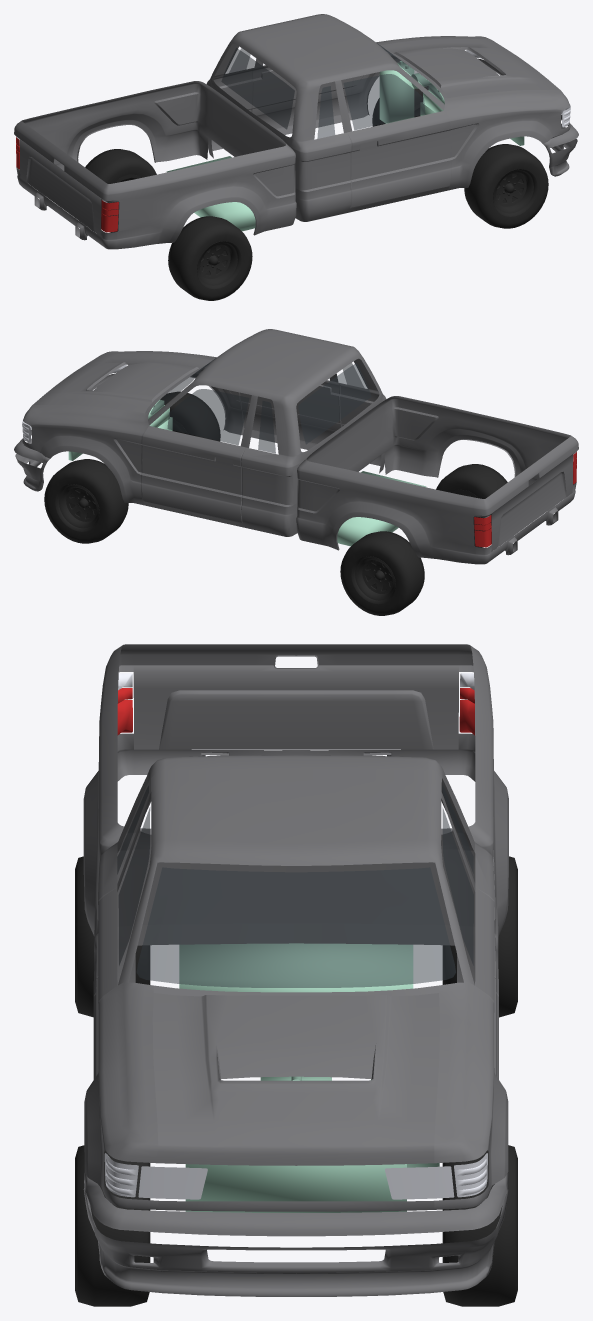
The model's file is pickup.glb.
The picture shows the model from 3 angles, top to bottom: view 1: azimuth 30°, elevation 25°; view 2: azimuth 150°, elevation 25°; view 3: azimuth 270°, elevation 25°; orthographic projection. The views are drawn at different scales.
Visible parts, largest first — view 1: krmlgtbdy85_Body.001, krmlgtbdy85_Hood.001, tyre_rr_tyre, tyre_fr_tyre, krmlgtbdy85_Trunkdoor.001, krmlgtbdy85_Glass_Passanger.001, krmlgtbdy85_Glass_Rear.001, tyre_rl_tyre, zone_battery, zone_fuel, krmlgtbdy85_Bumper_Front.001, krmlgtbdy85_Body_Glass.001 (+3 smaller); view 2: krmlgtbdy85_Body.001, krmlgtbdy85_Hood.001, tyre_rl_tyre, tyre_fl_tyre, krmlgtbdy85_Trunkdoor.001, krmlgtbdy85_Glass_Driver.001, krmlgtbdy85_Glass_Rear.001, tyre_fr_tyre, tyre_rr_tyre, zone_fuel, krmlgtbdy85_Bumper_Front.001, krmlgtbdy85_Body_Glass.001 (+2 smaller); view 3: krmlgtbdy85_Body.001, krmlgtbdy85_Hood.001, krmlgtbdy85_Windshield.001, krmlgtbdy85_Trunkdoor.001, krmlgtbdy85_Bumper_Front.001, zone_fuel, zone_cooling, headlight_krmlgtbdy85_Headlights_Glass.001, tyre_fl_tyre, tyre_fr_tyre, tyre_rr_tyre, tyre_rl_tyre (+4 smaller).
Boxes of the visible parts, <box> form: krmlgtbdy85_Body.001: <box>14,14,570,249</box>; krmlgtbdy85_Hood.001: <box>380,38,559,98</box>; tyre_rr_tyre: <box>168,216,252,300</box>; tyre_fr_tyre: <box>464,144,548,228</box>; krmlgtbdy85_Trunkdoor.001: <box>18,123,104,236</box>; krmlgtbdy85_Glass_Passanger.001: <box>343,74,425,130</box>; krmlgtbdy85_Glass_Rear.001: <box>221,48,294,129</box>; tyre_rl_tyre: <box>85,149,156,232</box>; zone_battery: <box>379,62,414,123</box>; zone_fuel: <box>166,156,255,231</box>; krmlgtbdy85_Bumper_Front.001: <box>493,70,578,176</box>; krmlgtbdy85_Body_Glass.001: <box>229,48,335,138</box>; krmlgtbdy85_Body.001: <box>22,329,578,564</box>; krmlgtbdy85_Hood.001: <box>33,353,212,413</box>; tyre_rl_tyre: <box>340,531,424,615</box>; tyre_fl_tyre: <box>44,459,128,543</box>; krmlgtbdy85_Trunkdoor.001: <box>488,438,574,551</box>; krmlgtbdy85_Glass_Driver.001: <box>167,389,249,445</box>; krmlgtbdy85_Glass_Rear.001: <box>298,363,371,444</box>; tyre_fr_tyre: <box>160,391,220,441</box>; tyre_rr_tyre: <box>436,464,507,547</box>; zone_fuel: <box>337,471,426,546</box>; krmlgtbdy85_Bumper_Front.001: <box>14,385,99,491</box>; krmlgtbdy85_Body_Glass.001: <box>258,363,363,453</box>; krmlgtbdy85_Body.001: <box>83,644,508,1211</box>; krmlgtbdy85_Hood.001: <box>152,993,439,1165</box>; krmlgtbdy85_Windshield.001: <box>136,867,455,987</box>; krmlgtbdy85_Trunkdoor.001: <box>133,644,458,749</box>; krmlgtbdy85_Bumper_Front.001: <box>83,1172,508,1296</box>; zone_fuel: <box>179,943,413,992</box>; zone_cooling: <box>185,1164,406,1212</box>; headlight_krmlgtbdy85_Headlights_Glass.001: <box>104,1153,487,1199</box>; tyre_fl_tyre: <box>442,1145,517,1306</box>; tyre_fr_tyre: <box>75,1145,150,1306</box>; tyre_rr_tyre: <box>75,856,150,1017</box>; tyre_rl_tyre: <box>442,856,517,1017</box>.
Bounding box in the file's own units: 4.73 × 1.68 × 1.88.
